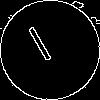I: (25, 25, 60, 71)
